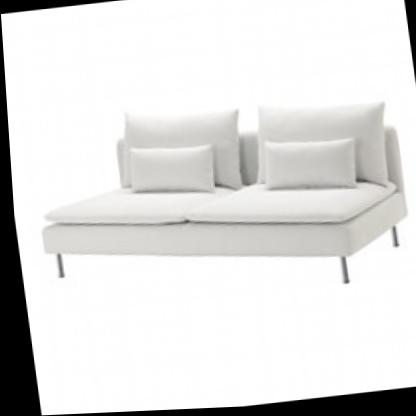Sofa: (15, 68, 416, 332)
